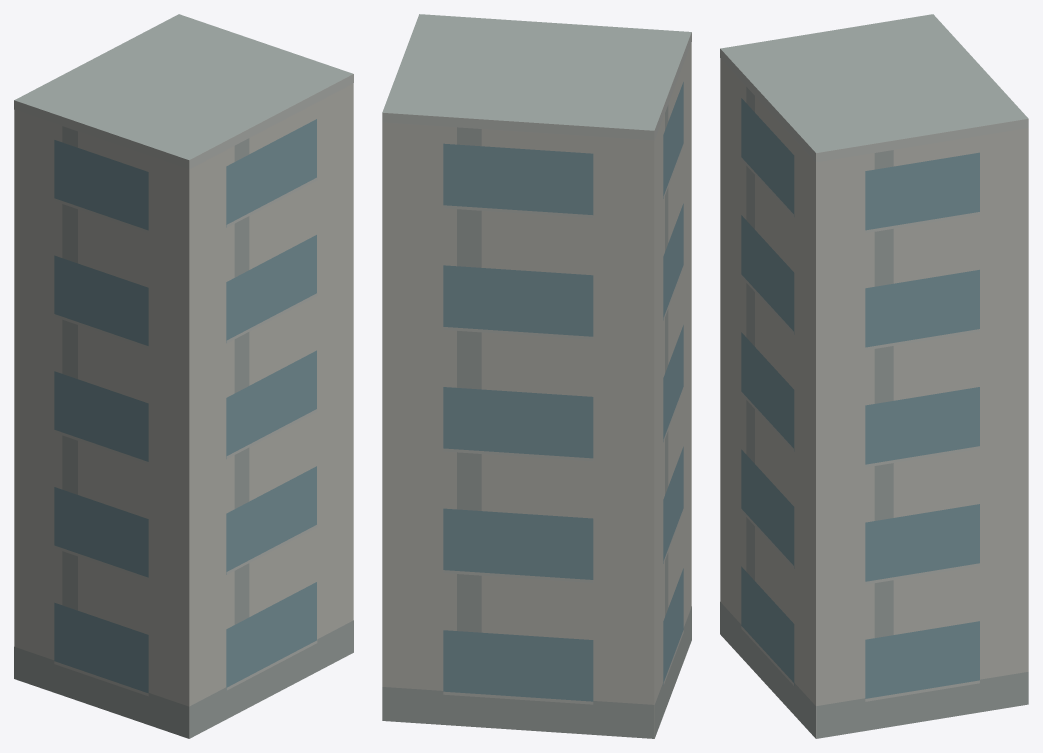
The model's file is survey-upis-32647322.glb.
3 renders of one model, left to right at view 1: azimuth 30°, elevation 25°; view 2: azimuth 150°, elevation 25°; view 3: azimuth 270°, elevation 25°, orthographic. The views are drawn at different scales.
Visible parts, largest first — view 1: survey-upis-32647322.tmp; view 2: survey-upis-32647322.tmp; view 3: survey-upis-32647322.tmp.
Part boxes in pixels (bbox=[...]): survey-upis-32647322.tmp: bbox=[14, 14, 353, 738]; survey-upis-32647322.tmp: bbox=[382, 14, 691, 738]; survey-upis-32647322.tmp: bbox=[720, 14, 1028, 738].
Size of the model in its own units: 7.78 by 15.25 by 7.29.
